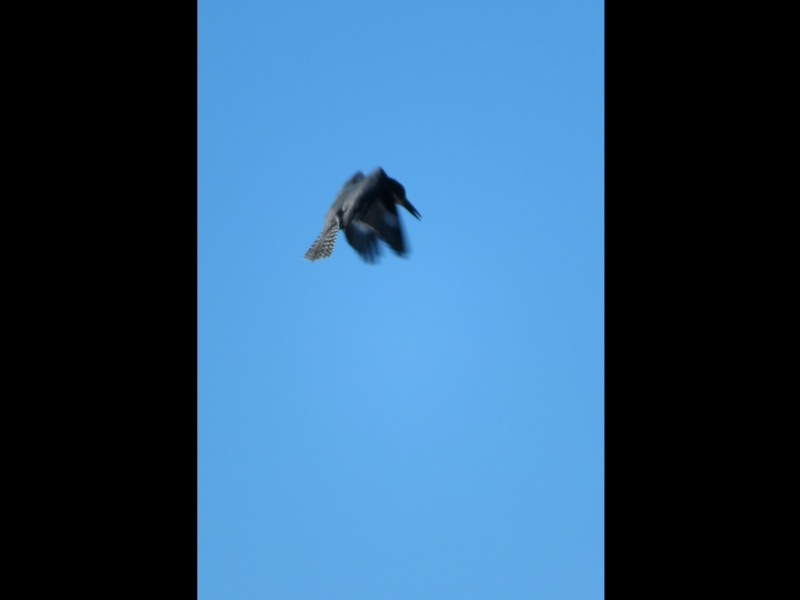kingfisher: (303, 163, 423, 267)
